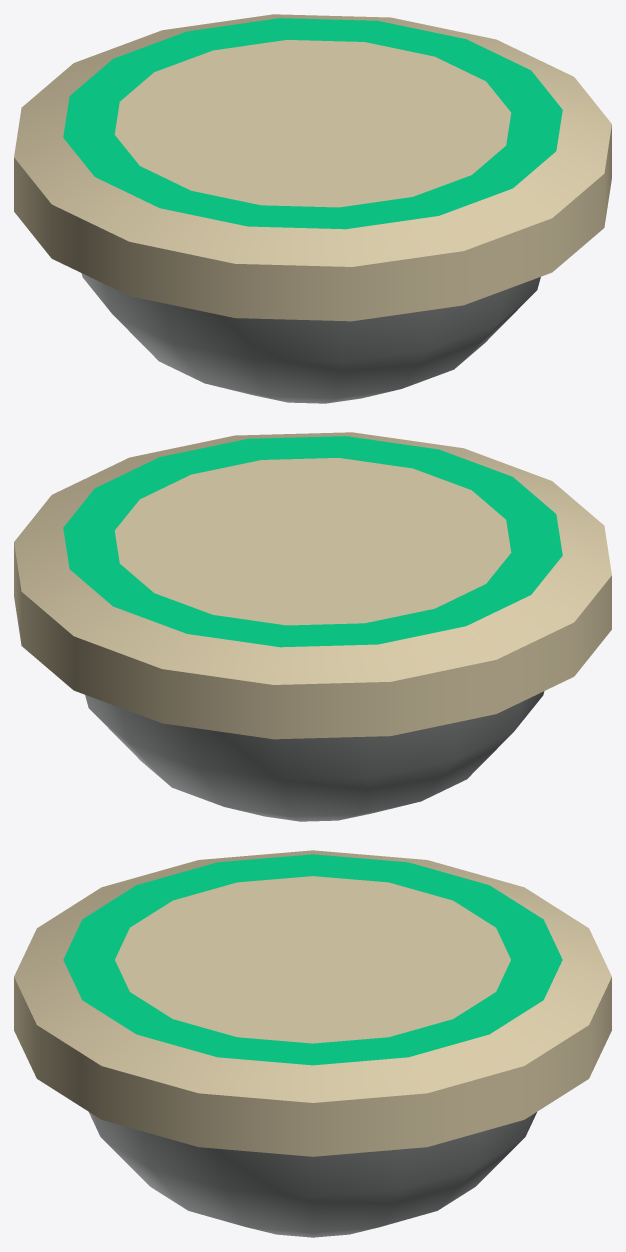
3 renders of one model, top to bottom at view 1: azimuth 30°, elevation 25°; view 2: azimuth 150°, elevation 25°; view 3: azimuth 270°, elevation 25°, orthographic.
Parts seen in each view (by area): view 1: G:\FFXIV-MapTools\exports\u5f1\bg\ex4\04_uvs_u5\fld\u5f1\bgp (×2); view 2: G:\FFXIV-MapTools\exports\u5f1\bg\ex4\04_uvs_u5\fld\u5f1\bgp (×2); view 3: G:\FFXIV-MapTools\exports\u5f1\bg\ex4\04_uvs_u5\fld\u5f1\bgp (×2).
Boxes of the visible parts, x1,y1,x2,y2 form: G:\FFXIV-MapTools\exports\u5f1\bg\ex4\04_uvs_u5\fld\u5f1\bgp (×2): (14, 14, 611, 403); G:\FFXIV-MapTools\exports\u5f1\bg\ex4\04_uvs_u5\fld\u5f1\bgp (×2): (14, 432, 611, 821); G:\FFXIV-MapTools\exports\u5f1\bg\ex4\04_uvs_u5\fld\u5f1\bgp (×2): (14, 850, 611, 1237).
Bounding box in the file's own units: 0.3601 × 0.1669 × 0.3601.
